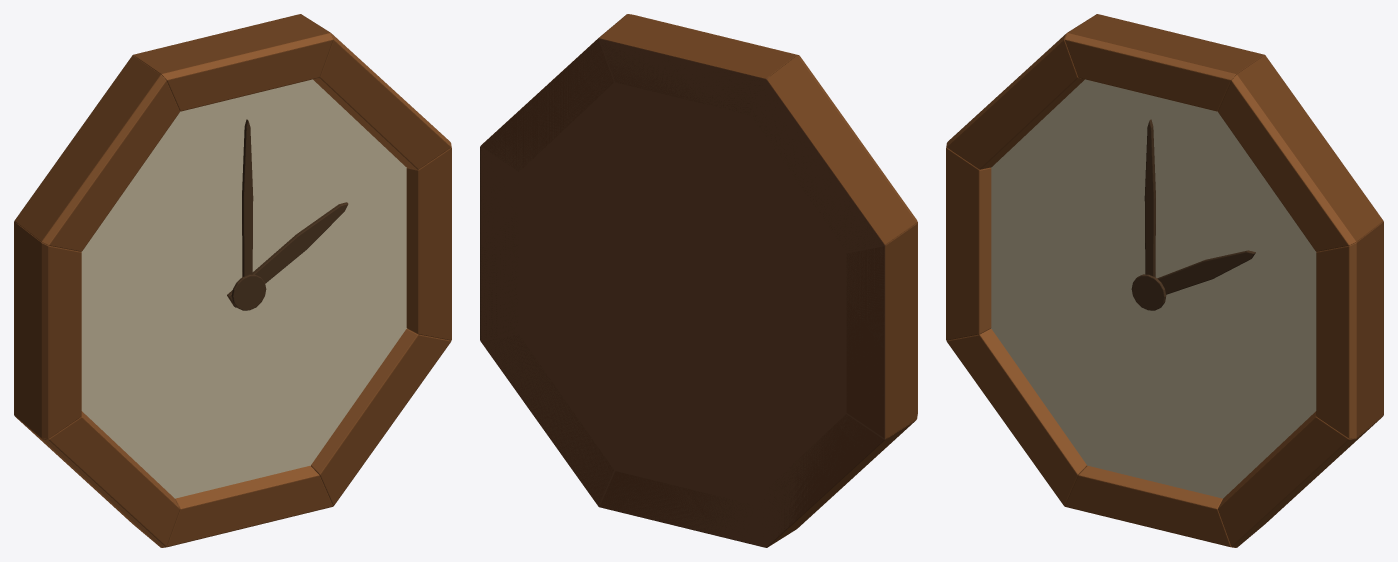
Rendered from clock-master.glb.
3 renders of one model, left to right at view 1: azimuth 30°, elevation 25°; view 2: azimuth 150°, elevation 25°; view 3: azimuth 330°, elevation 25°, orthographic.
Visible parts, largest first — view 1: Clock_Dial, Clock_Frame_08, Clock_Frame_07, Clock_Frame_01, Clock_Frame_03, Clock_Frame_04, Clock_Frame_06, Clock_Frame_02, Clock_Frame_05, Hand_Hour, Hand_Minute, Hand_Hub; view 2: Clock_Back, Clock_Frame_07, Clock_Frame_08, Clock_Frame_01, Clock_Frame_02, Clock_Frame_06, Clock_Frame_04, Clock_Frame_05; view 3: Clock_Dial, Clock_Frame_02, Clock_Frame_03, Clock_Frame_01, Clock_Frame_07, Clock_Frame_06, Clock_Frame_04, Clock_Frame_08, Clock_Frame_05, Hand_Hour, Hand_Minute, Hand_Hub.
Boxes of the visible parts, x1,y1,x2,y2 form: Clock_Dial: (81, 79, 406, 498); Clock_Frame_08: (14, 55, 179, 251); Clock_Frame_07: (14, 222, 81, 438); Clock_Frame_01: (134, 14, 333, 111); Clock_Frame_03: (406, 143, 451, 340); Clock_Frame_04: (311, 328, 451, 506); Clock_Frame_06: (15, 411, 179, 547); Clock_Frame_02: (303, 15, 451, 169); Clock_Frame_05: (162, 465, 333, 547); Hand_Hour: (227, 202, 348, 307); Hand_Minute: (242, 119, 253, 276); Hand_Hub: (231, 274, 266, 310); Clock_Back: (480, 37, 887, 547); Clock_Frame_07: (846, 221, 917, 438); Clock_Frame_08: (753, 55, 917, 250); Clock_Frame_01: (599, 14, 798, 114); Clock_Frame_02: (481, 14, 626, 171); Clock_Frame_06: (764, 414, 916, 547); Clock_Frame_04: (481, 334, 613, 505); Clock_Frame_05: (600, 471, 765, 547); Clock_Dial: (991, 79, 1316, 498); Clock_Frame_02: (1218, 55, 1383, 251); Clock_Frame_03: (1316, 222, 1383, 438); Clock_Frame_01: (1064, 14, 1263, 111); Clock_Frame_07: (946, 143, 991, 340); Clock_Frame_06: (946, 328, 1086, 506); Clock_Frame_04: (1218, 411, 1382, 547); Clock_Frame_08: (946, 15, 1094, 169); Clock_Frame_05: (1064, 465, 1235, 547); Hand_Hour: (1157, 250, 1255, 294); Hand_Minute: (1144, 119, 1155, 276); Hand_Hub: (1131, 274, 1166, 310).
Size of the model in its own units: 0.3799 by 0.4199 by 0.054.
